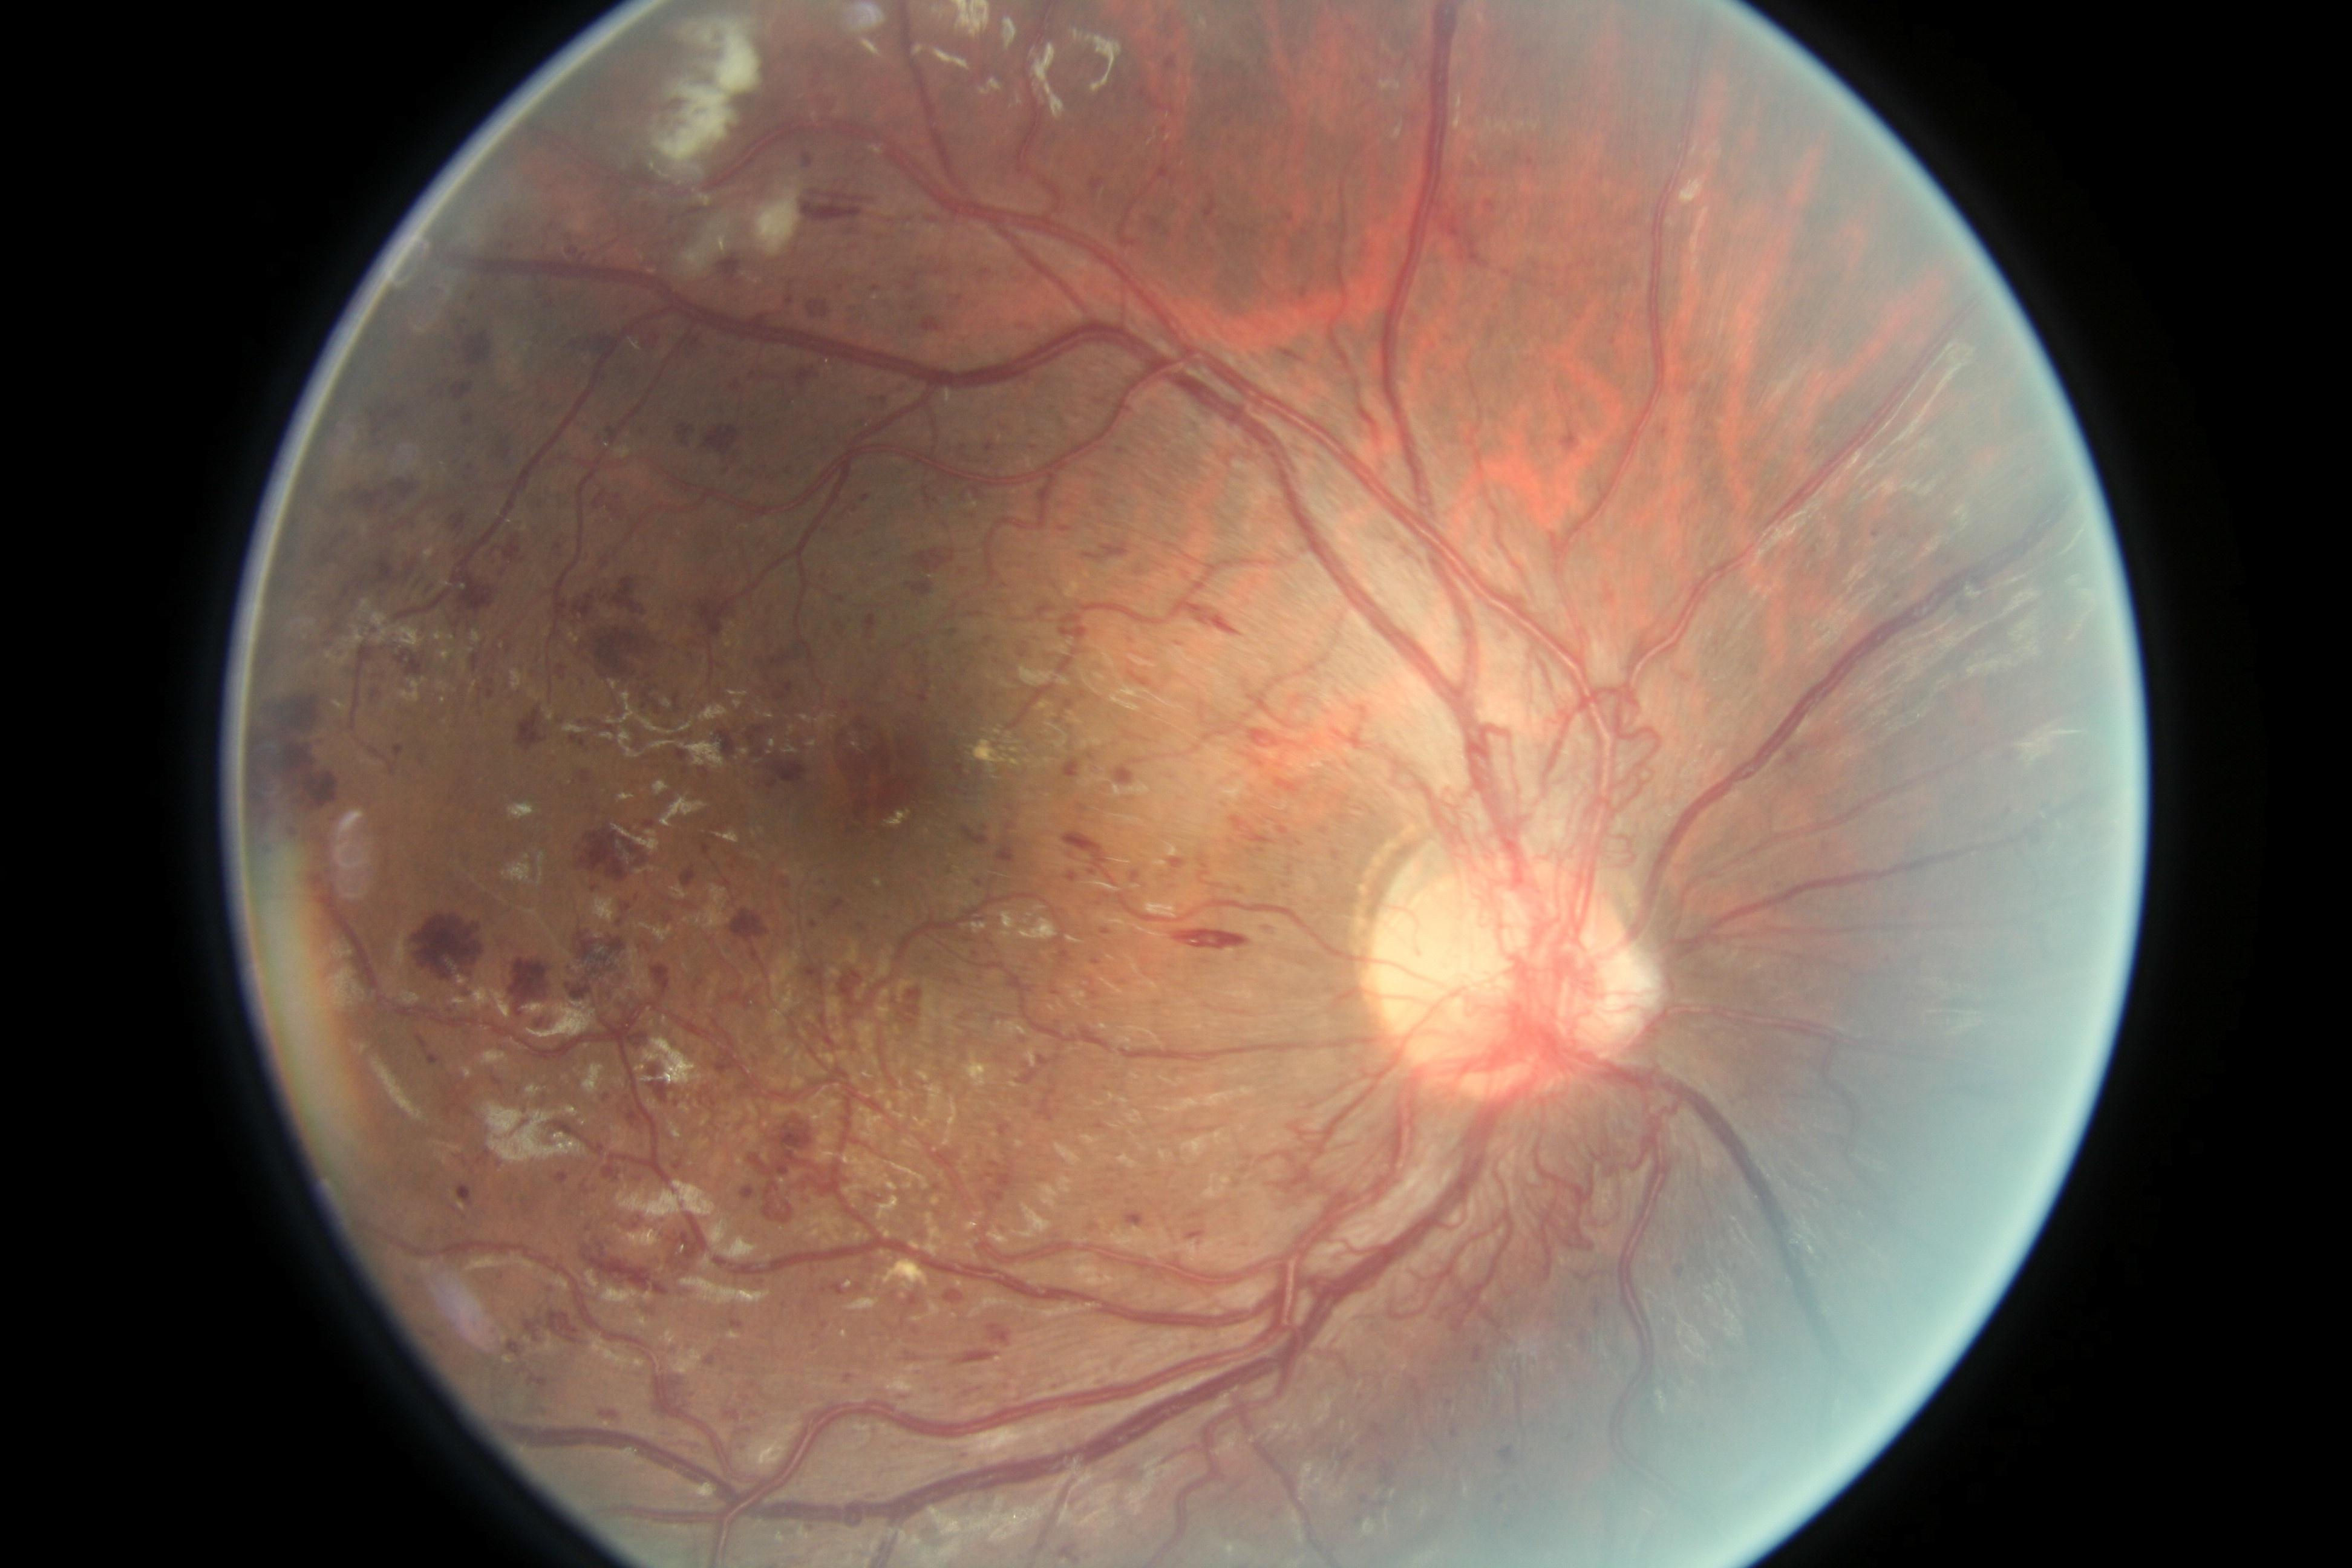Optic-nerve: (1365, 819, 1675, 1095)
macula: (789, 667, 980, 870)
